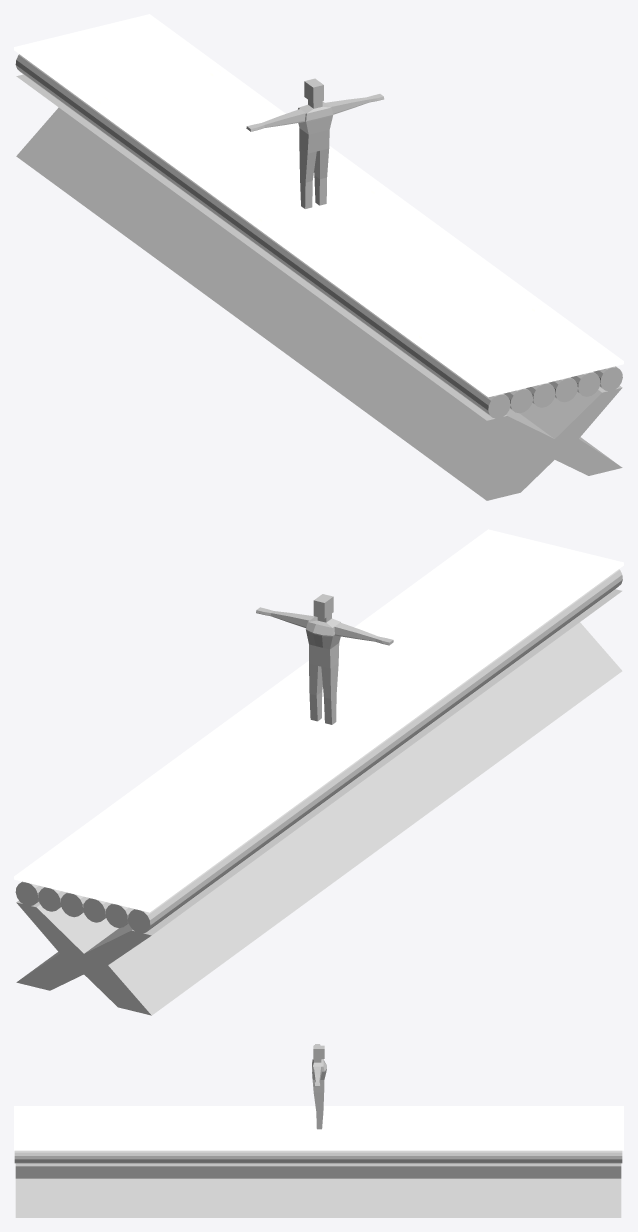
File: fashion_walkway.fbx
3 renders of one model, top to bottom at view 1: azimuth 30°, elevation 25°; view 2: azimuth 150°, elevation 25°; view 3: azimuth 270°, elevation 25°, orthographic. The views are drawn at different scales.
Parts seen in each view (by area): view 1: fashionwalkway_top, fashionwalkway_bottom, fashionwalkway_middle, reference; view 2: fashionwalkway_top, fashionwalkway_bottom, fashionwalkway_middle, reference; view 3: fashionwalkway_bottom, fashionwalkway_top, fashionwalkway_middle, reference.
Part boxes in pixels (x1,y1,x2,y2): fashionwalkway_top: (14,14,623,397); fashionwalkway_bottom: (16,74,622,500); fashionwalkway_middle: (15,54,622,418); reference: (246,78,384,208); fashionwalkway_top: (14,529,623,912); fashionwalkway_bottom: (16,589,622,1015); fashionwalkway_middle: (15,569,622,933); reference: (256,594,393,724); fashionwalkway_bottom: (15,1163,621,1217); fashionwalkway_top: (14,1106,623,1150); fashionwalkway_middle: (14,1150,622,1163); reference: (312,1044,326,1129).
Bounding box in the file's own units: 205 × 324 × 1210.
